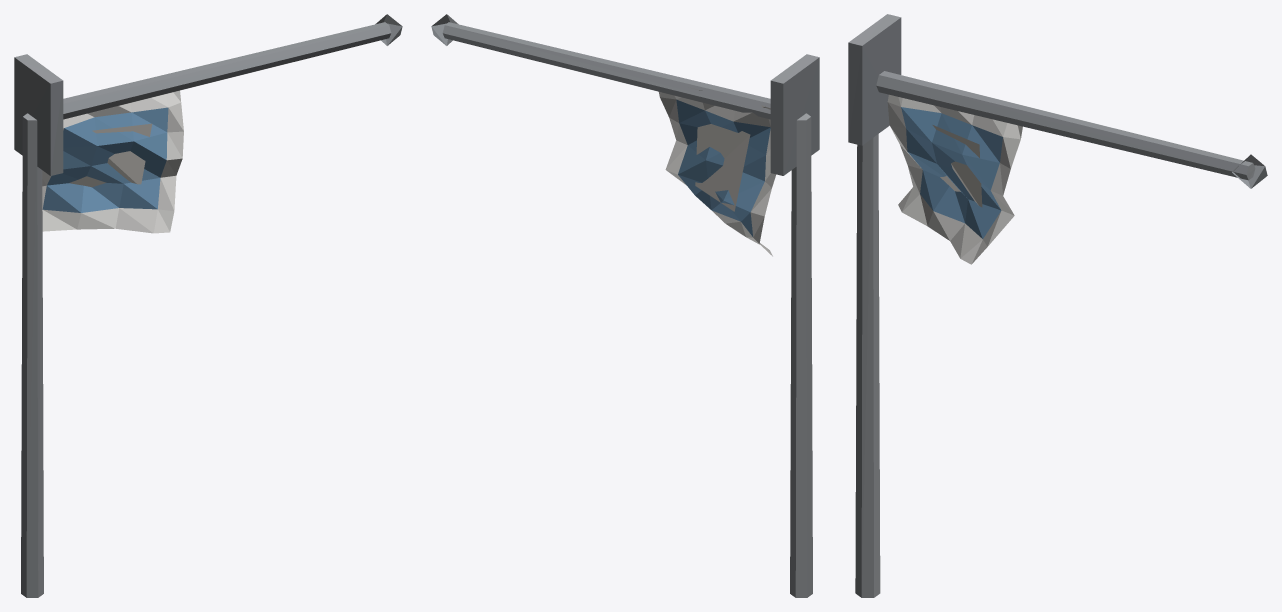
File: flag.square.qingqi__pole.horizontal.big__armHang.glb
The picture shows the model from 3 angles, left to right: view 1: azimuth 30°, elevation 25°; view 2: azimuth 150°, elevation 25°; view 3: azimuth 330°, elevation 25°; orthographic projection. The views are drawn at different scales.
Parts seen in each view (by area): view 1: flag.square.qingqi; view 2: flag.square.qingqi; view 3: flag.square.qingqi.
Part boxes in pixels (bbox=[...]): flag.square.qingqi: bbox=[14, 14, 402, 597]; flag.square.qingqi: bbox=[431, 14, 819, 597]; flag.square.qingqi: bbox=[848, 14, 1267, 597].
Size of the model in its own units: 2.66 by 3.51 by 0.5482.
